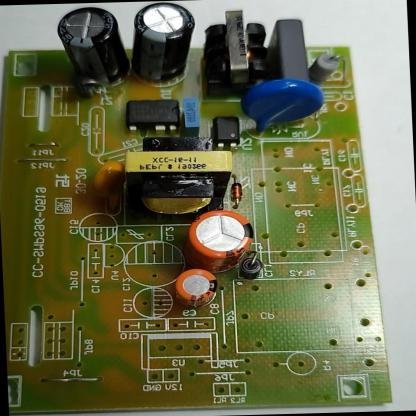Cap1: (184, 205, 258, 273)
Cap2: (172, 267, 222, 308)
Cap3: (127, 0, 202, 89)
Cap4: (57, 2, 124, 86)
MOSFET: (123, 93, 186, 138)
Mov: (241, 74, 331, 136)
Resistor: (309, 47, 346, 84)
Transformer: (119, 132, 241, 226), (195, 9, 274, 100)
